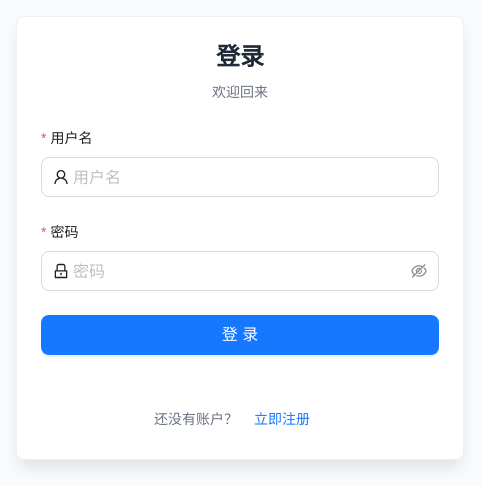
Test: LoginForm › shows validation error for short username
Type "ab" into the field with placeholder "用户名" at (250, 177), box [73,165,427,189]
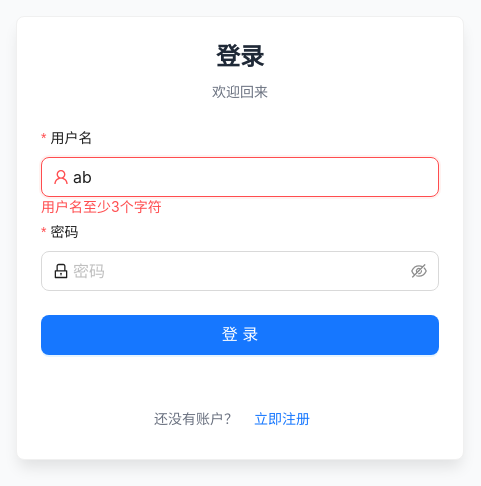
Click the button with test id "submit-button" at (240, 335), box [41,315,439,355]
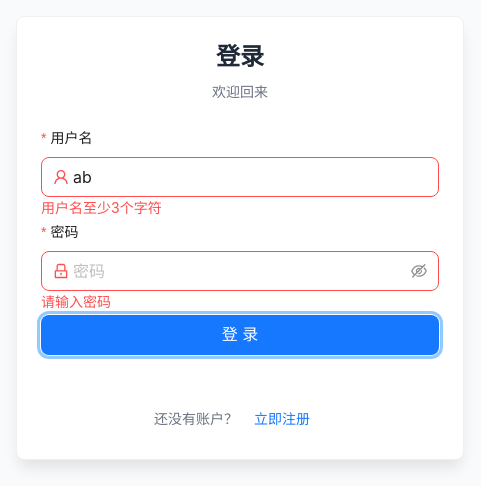
Now the text "用户名至少3个字符" is shown, box [41,199,162,216]
